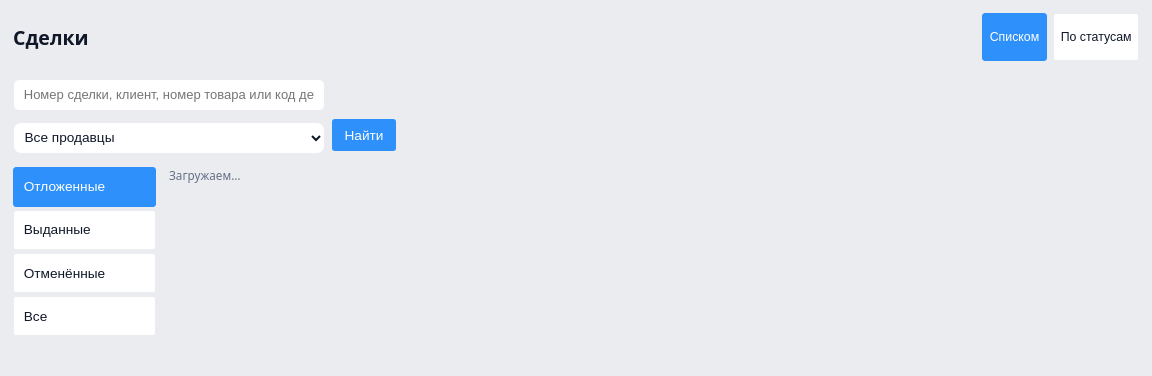
Test: пометка о сдвиге ожидаемой даты и предзаказ без «срока истёк» › доска по статусам: то же на карточке
Click the button "По статусам". click: x=1096, y=37
box: [1053,13,1139,61]
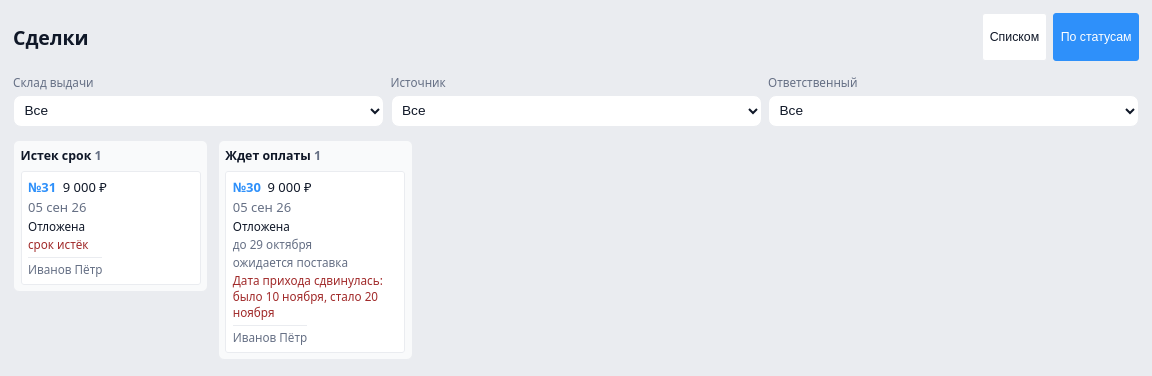
Expected: the text "№30" does not show "срок истёк"
Expected: the button "№30" shows "ожидается поставка", [225,170,405,353]
Expected: the text "срок истёк" is shown, [28,236,88,252]
